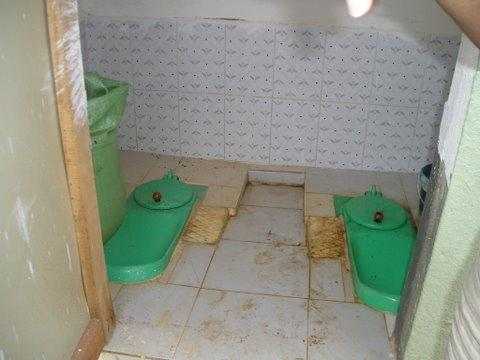Bote de Basura: (49, 78, 132, 254)
Sanitario: (96, 174, 200, 300), (338, 186, 434, 312)
